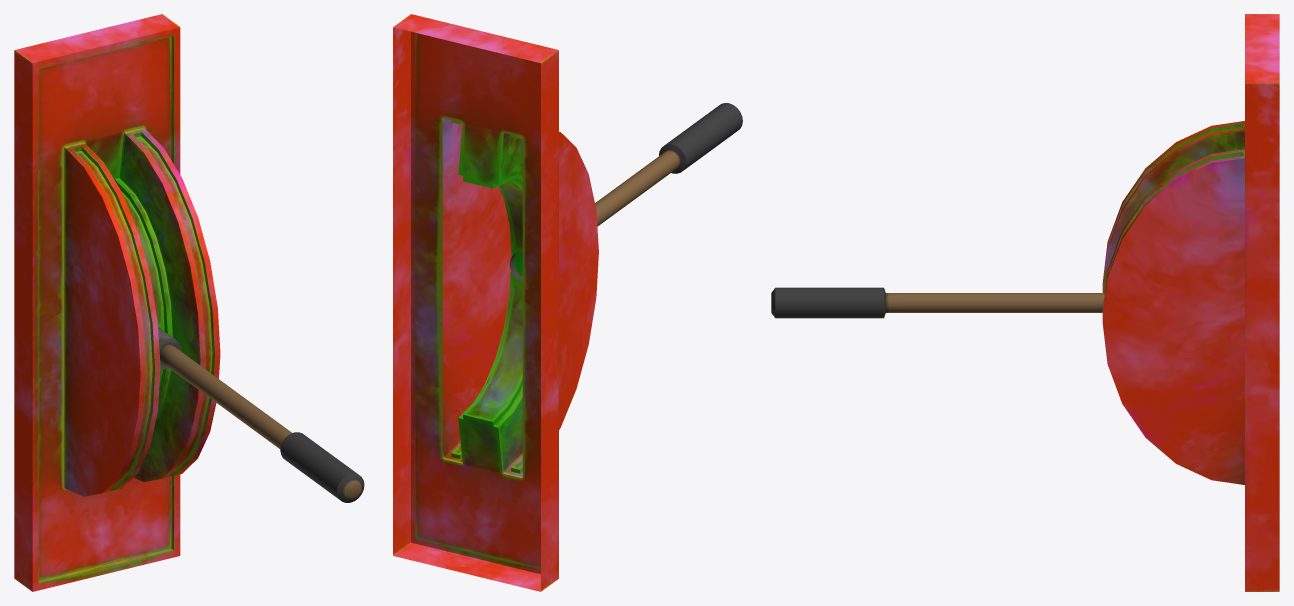
File: item_lever.glb
3 renders of one model, left to right at view 1: azimuth 30°, elevation 25°; view 2: azimuth 150°, elevation 25°; view 3: azimuth 270°, elevation 25°, orthographic. The views are drawn at different scales.
Visible parts, largest first — view 1: lever_base_dummy_material_0.002_0, lever_dummy_material_0.001_0; view 2: lever_base_dummy_material_0.002_0, lever_dummy_material_0.001_0; view 3: lever_base_dummy_material_0.002_0, lever_dummy_material_0.001_0.
Boxes of the visible parts, box(x1,y1,x2,y2) form: lever_base_dummy_material_0.002_0: box(14, 14, 220, 591); lever_dummy_material_0.001_0: box(158, 327, 364, 502); lever_base_dummy_material_0.002_0: box(393, 14, 598, 591); lever_dummy_material_0.001_0: box(509, 103, 742, 281); lever_base_dummy_material_0.002_0: box(1102, 14, 1279, 591); lever_dummy_material_0.001_0: box(771, 287, 1104, 318).
Bounding box in the file's own units: 0.2155 × 0.7361 × 0.6671.
Materials: 2 (2 with a texture image).
